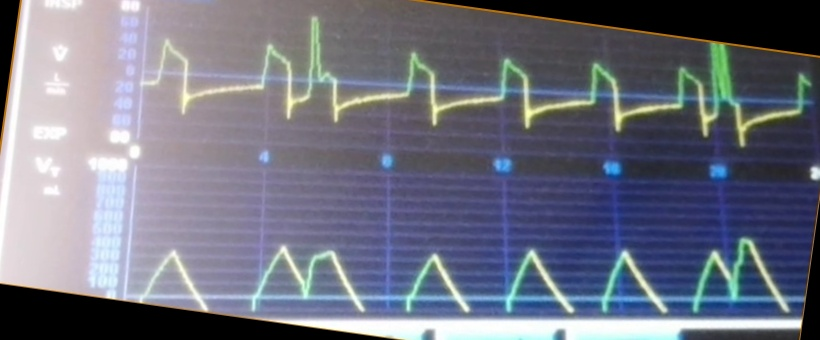Double_Triggering Flow: (152, 14, 809, 153)
Double_Triggering Volume: (136, 230, 798, 315)
